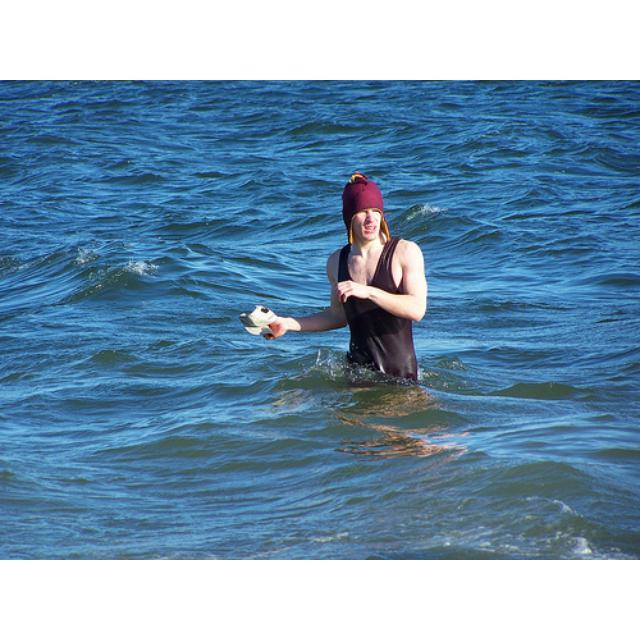human: (243, 175, 431, 387)
